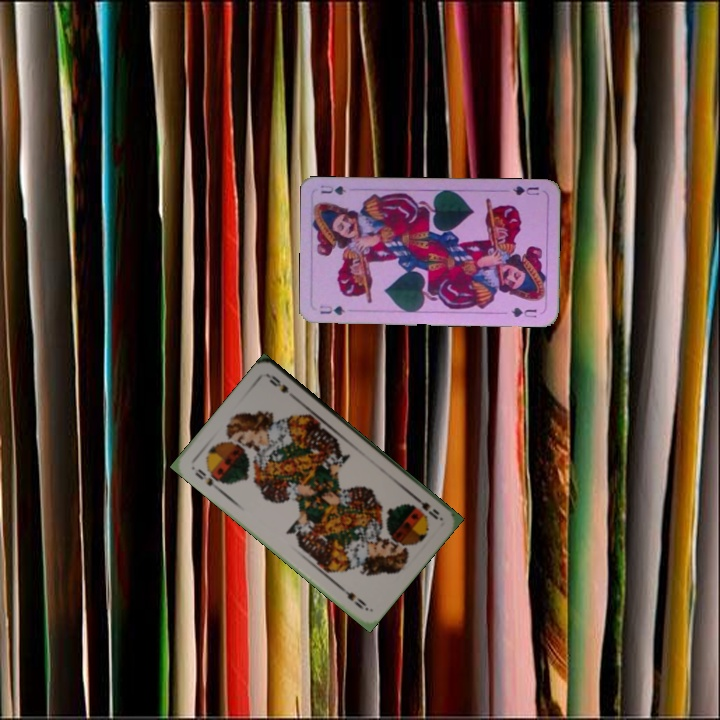GU: (509, 182, 542, 198), (316, 301, 347, 318)
SO: (409, 491, 444, 522), (191, 465, 223, 493)
